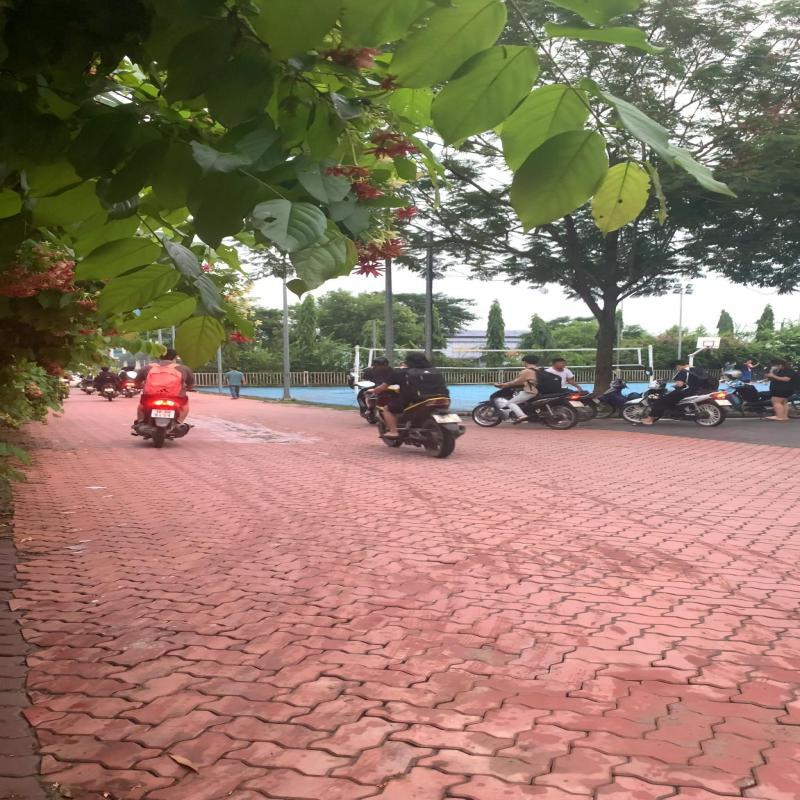licenseplate: (431, 412, 463, 424)
motorcyclist: (358, 353, 468, 458), (470, 354, 588, 430)
nohelmet: (405, 352, 428, 365), (520, 354, 541, 366)
